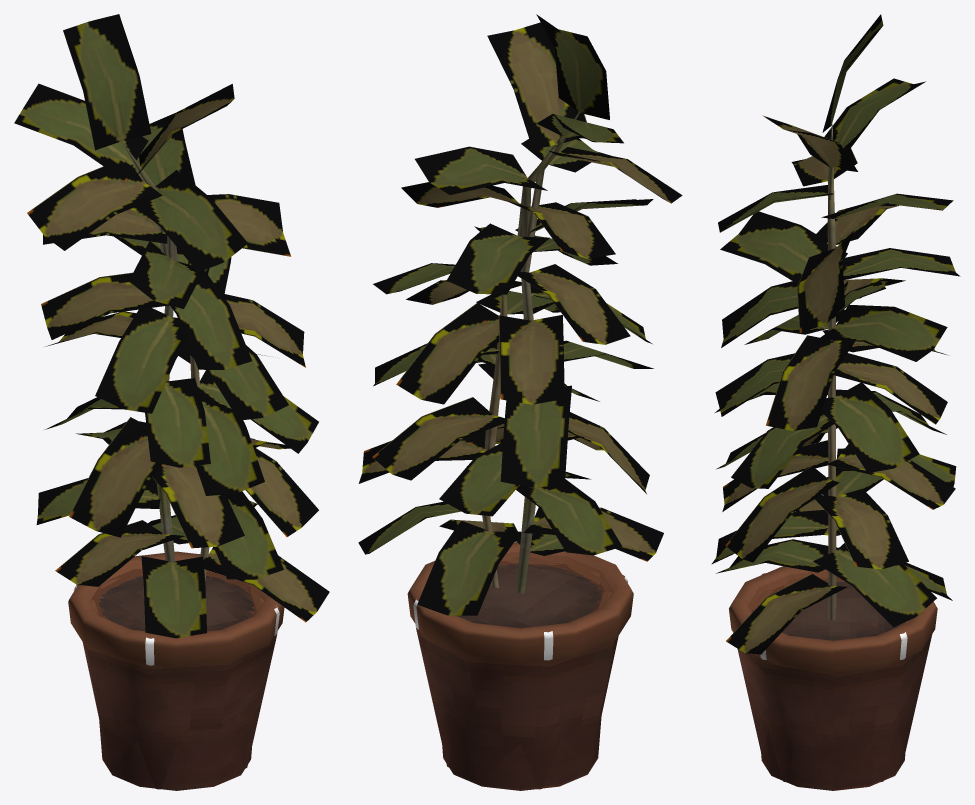
Rendered from objects_un_pot_rubbertree01.gltf.
The picture shows the model from 3 angles, left to right: view 1: azimuth 30°, elevation 25°; view 2: azimuth 150°, elevation 25°; view 3: azimuth 270°, elevation 25°; orthographic projection. The views are drawn at different scales.
Visible parts, largest first — view 1: um_objects_un_pot_rubbertree01_model_lod2Shape:a_t01_i01_pla, um_objects_un_pot_rubbertree01_model_lod0Shape:a_t01_i01_pla, um_objects_un_pot_rubbertree01_model_lod2Shape:objects_un_po, um_objects_un_pot_rubbertree01_model_lod0Shape:objects_un_po, um_objects_un_pot_rubbertree01_model_lod1Shape:objects_un_po; view 2: um_objects_un_pot_rubbertree01_model_lod0Shape:a_t01_i01_pla, um_objects_un_pot_rubbertree01_model_lod2Shape:a_t01_i01_pla, um_objects_un_pot_rubbertree01_model_lod0Shape:objects_un_po, um_objects_un_pot_rubbertree01_model_lod2Shape:objects_un_po, um_objects_un_pot_rubbertree01_model_lod1Shape:a_t01_i01_pla, um_objects_un_pot_rubbertree01_model_lod1Shape:objects_un_po; view 3: um_objects_un_pot_rubbertree01_model_lod0Shape:a_t01_i01_pla, um_objects_un_pot_rubbertree01_model_lod2Shape:a_t01_i01_pla, um_objects_un_pot_rubbertree01_model_lod2Shape:objects_un_po, um_objects_un_pot_rubbertree01_model_lod0Shape:objects_un_po, um_objects_un_pot_rubbertree01_model_lod1Shape:a_t01_i01_pla.
Part boxes in pixels (x1,y1,x2,y2): um_objects_un_pot_rubbertree01_model_lod2Shape:a_t01_i01_pla: [24, 22, 316, 637]; um_objects_un_pot_rubbertree01_model_lod0Shape:a_t01_i01_pla: [14, 14, 329, 638]; um_objects_un_pot_rubbertree01_model_lod2Shape:objects_un_po: [82, 635, 276, 789]; um_objects_un_pot_rubbertree01_model_lod0Shape:objects_un_po: [68, 551, 284, 790]; um_objects_un_pot_rubbertree01_model_lod1Shape:objects_un_po: [76, 554, 276, 617]; um_objects_un_pot_rubbertree01_model_lod0Shape:a_t01_i01_pla: [358, 14, 682, 615]; um_objects_un_pot_rubbertree01_model_lod2Shape:a_t01_i01_pla: [362, 30, 670, 614]; um_objects_un_pot_rubbertree01_model_lod0Shape:objects_un_po: [407, 542, 633, 790]; um_objects_un_pot_rubbertree01_model_lod2Shape:objects_un_po: [416, 628, 618, 789]; um_objects_un_pot_rubbertree01_model_lod1Shape:a_t01_i01_pla: [432, 42, 643, 593]; um_objects_un_pot_rubbertree01_model_lod1Shape:objects_un_po: [416, 555, 624, 610]; um_objects_un_pot_rubbertree01_model_lod0Shape:a_t01_i01_pla: [711, 14, 960, 654]; um_objects_un_pot_rubbertree01_model_lod2Shape:a_t01_i01_pla: [717, 36, 954, 652]; um_objects_un_pot_rubbertree01_model_lod2Shape:objects_un_po: [737, 634, 932, 782]; um_objects_un_pot_rubbertree01_model_lod0Shape:objects_un_po: [729, 566, 937, 790]; um_objects_un_pot_rubbertree01_model_lod1Shape:a_t01_i01_pla: [724, 136, 929, 454].
Bounding box in the file's own units: 0.7909 × 1.98 × 0.6297.
3 materials, 2 textured.
